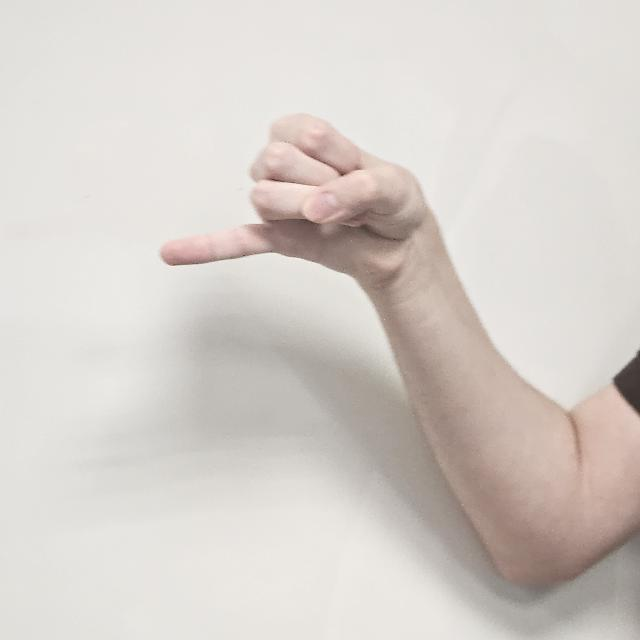Esquerda: (148, 92, 434, 332)
